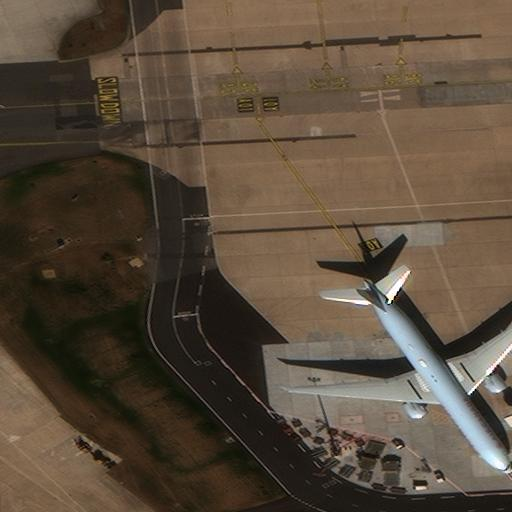Large Civil Transport: (288, 280, 511, 472)
